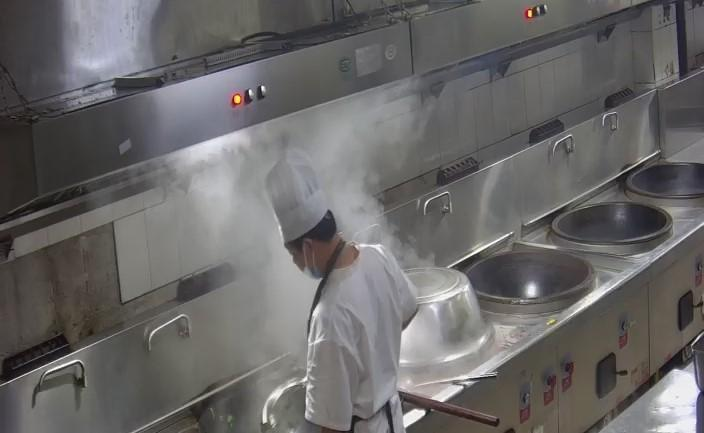mask: (282, 236, 324, 282)
